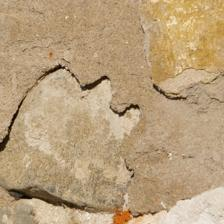Crack: (2, 58, 85, 152), (82, 73, 146, 150), (152, 81, 221, 114)
